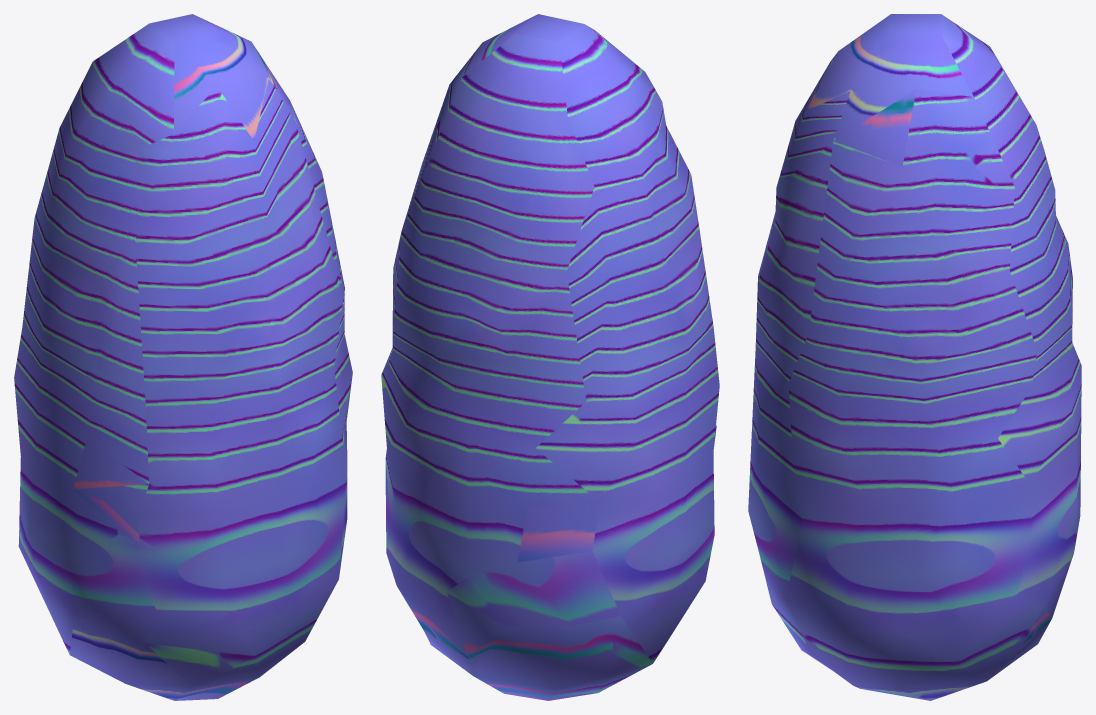
Rendered from m_StoneGreen_LOD2.fbx.
The picture shows the model from 3 angles, left to right: view 1: azimuth 30°, elevation 25°; view 2: azimuth 150°, elevation 25°; view 3: azimuth 270°, elevation 25°; orthographic projection.
Parts seen in each view (by area): view 1: StoneGreen_LOD2; view 2: StoneGreen_LOD2; view 3: StoneGreen_LOD2.
Part boxes in pixels (x1,y1,x2,y2): StoneGreen_LOD2: (14, 14, 352, 700); StoneGreen_LOD2: (381, 14, 719, 700); StoneGreen_LOD2: (748, 14, 1081, 700).
Bounding box in the file's own units: 32.63 × 71.46 × 32.62.
